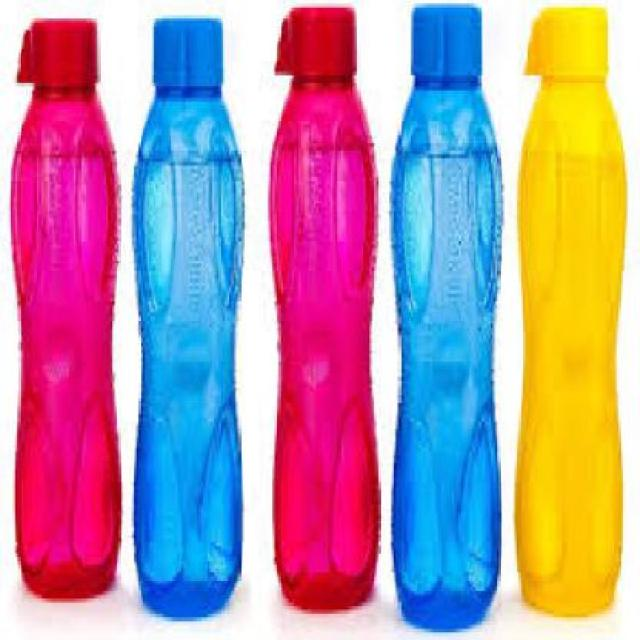Drinking: (253, 0, 389, 637), (4, 17, 130, 624), (508, 4, 628, 618)
